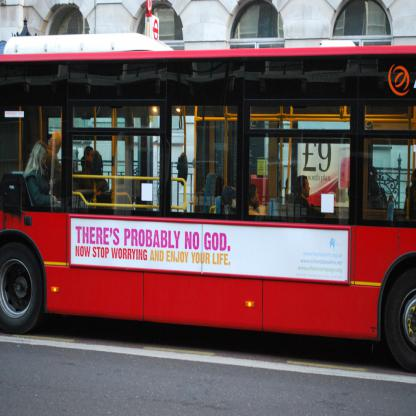Bus: (0, 33, 415, 375)
